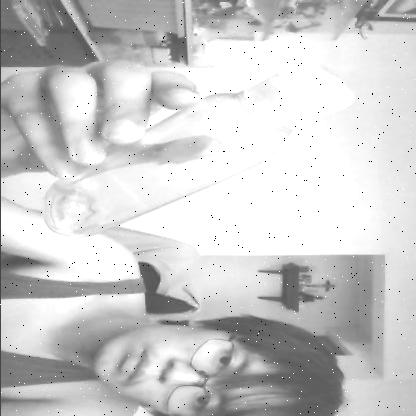Plastic Bottle: (41, 67, 360, 242)
